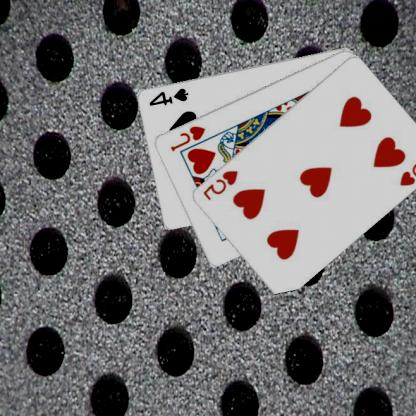4S: (148, 85, 191, 107)
5H: (201, 167, 241, 202), (398, 153, 416, 188)
JH: (169, 123, 208, 152)
